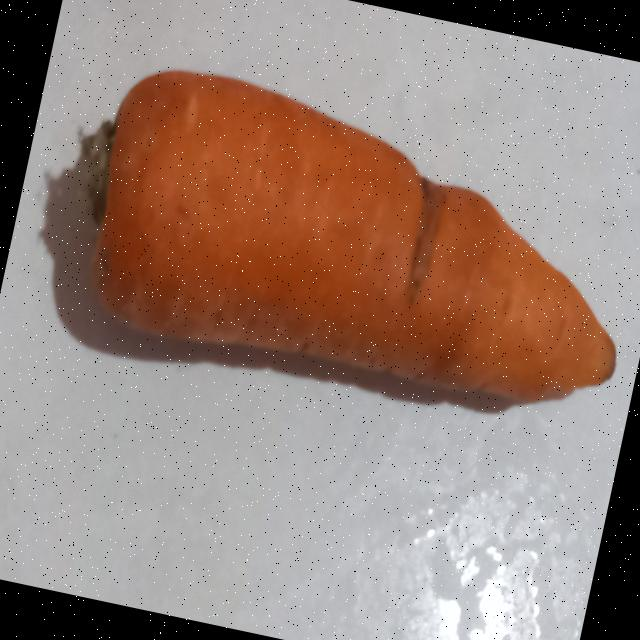carrot: (85, 70, 615, 401)
